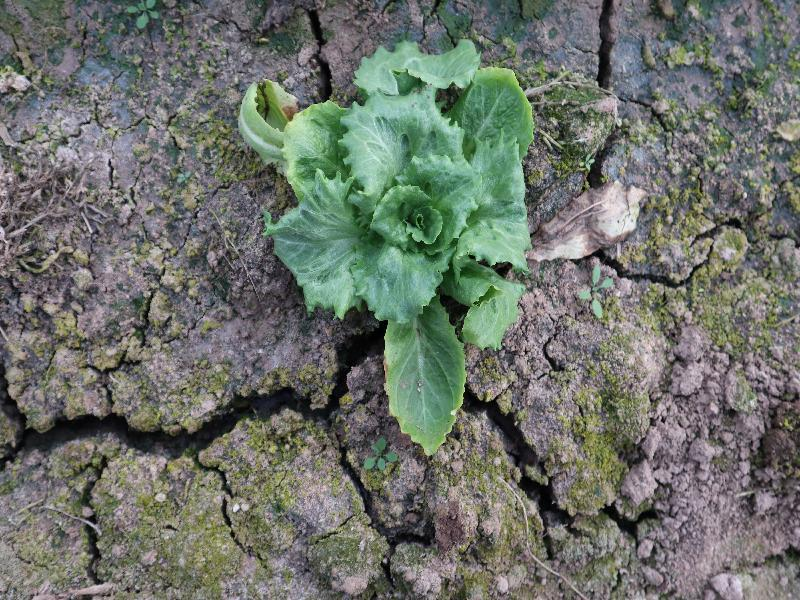lettuce: (237, 39, 535, 455)
